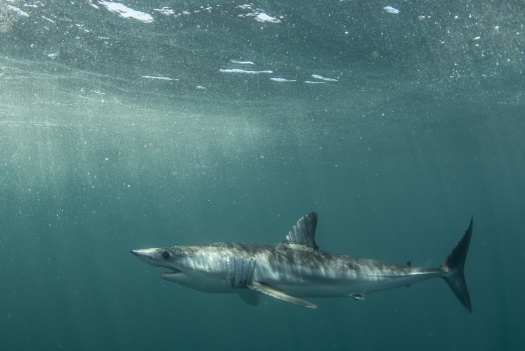Mako: (134, 202, 490, 329)
